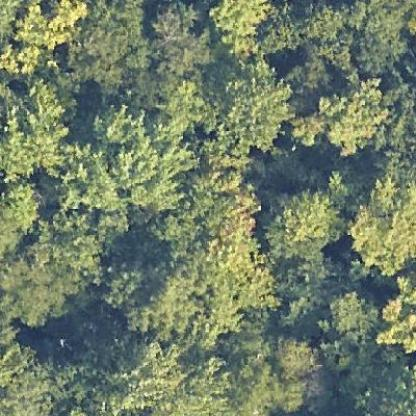tree-top: (67, 106, 185, 208), (261, 185, 354, 261), (0, 79, 71, 176), (344, 178, 415, 273), (208, 62, 288, 146), (0, 245, 83, 324), (313, 76, 388, 156), (3, 0, 92, 47), (207, 0, 278, 57), (376, 276, 415, 354), (0, 175, 38, 247), (92, 259, 146, 307), (264, 335, 320, 381)
